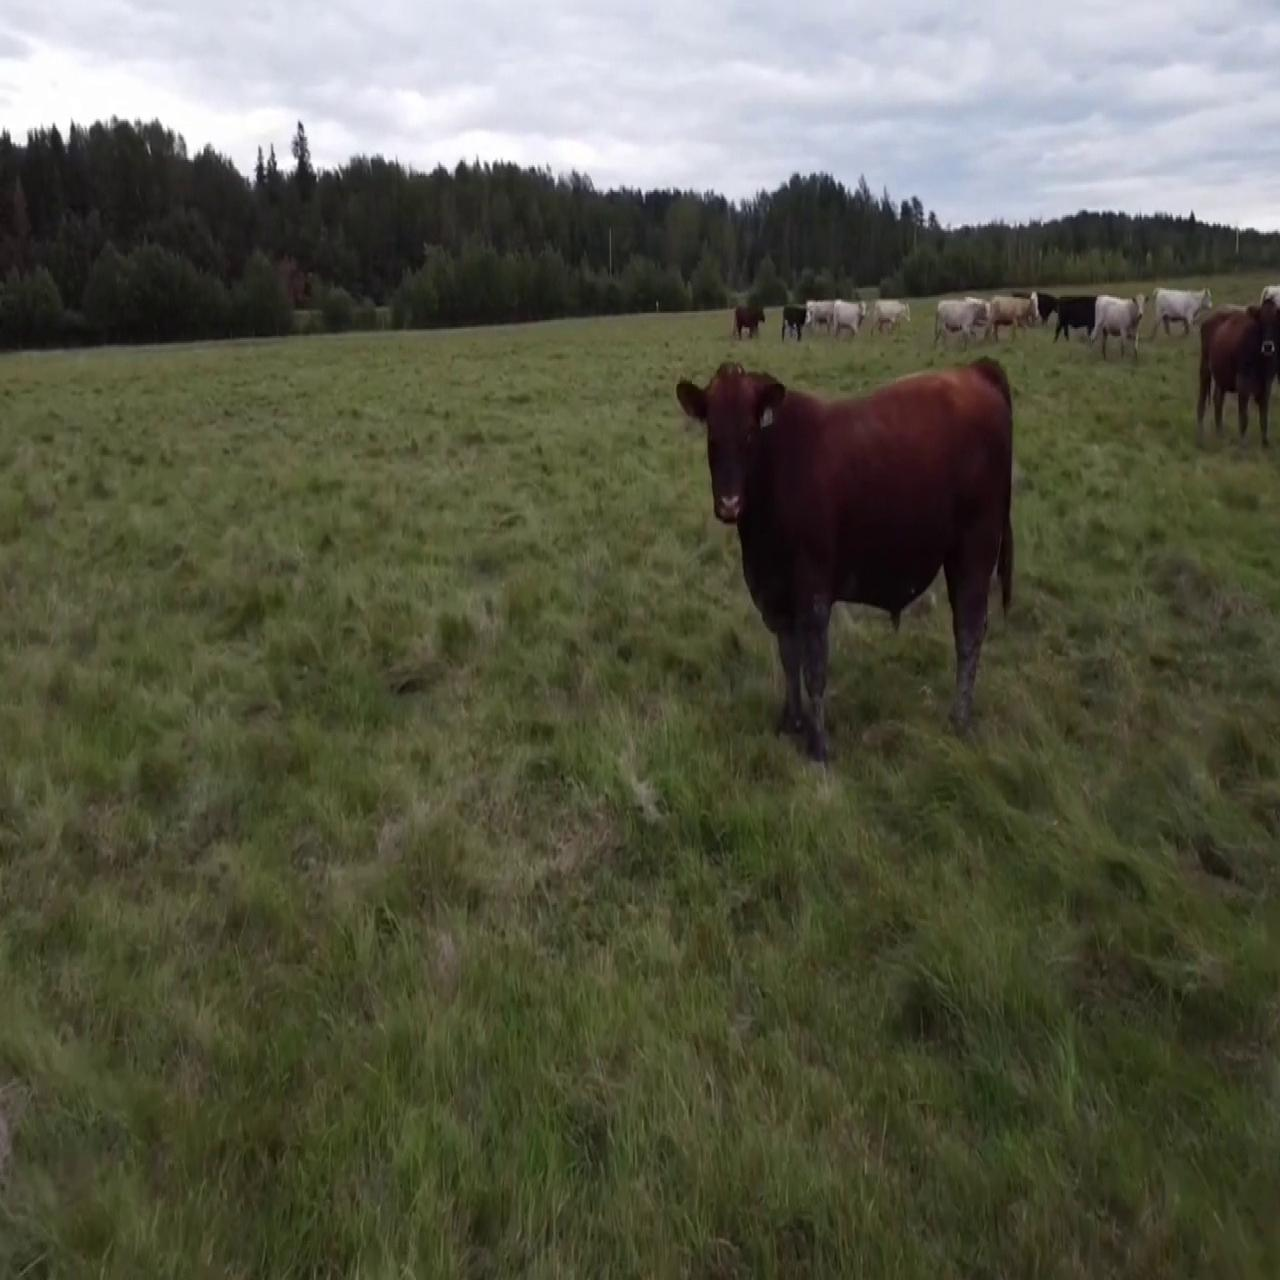cow: (670, 358, 1019, 778), (1194, 291, 1280, 447), (1088, 286, 1151, 368), (1149, 280, 1210, 346), (1051, 278, 1098, 348), (988, 290, 1041, 345), (934, 293, 985, 348), (833, 290, 867, 343), (806, 290, 839, 336), (874, 293, 910, 335), (731, 301, 767, 343), (781, 295, 806, 345)
